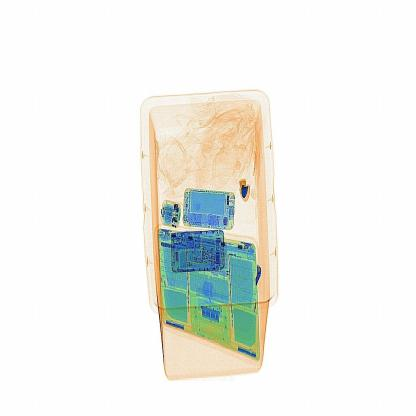wrench: (235, 170, 263, 215)
